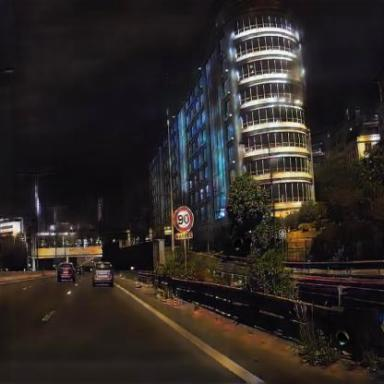Speed_limit_90: (174, 207, 193, 231)
